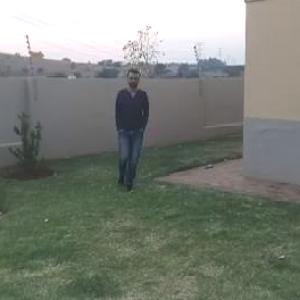follow: (112, 66, 154, 187)
